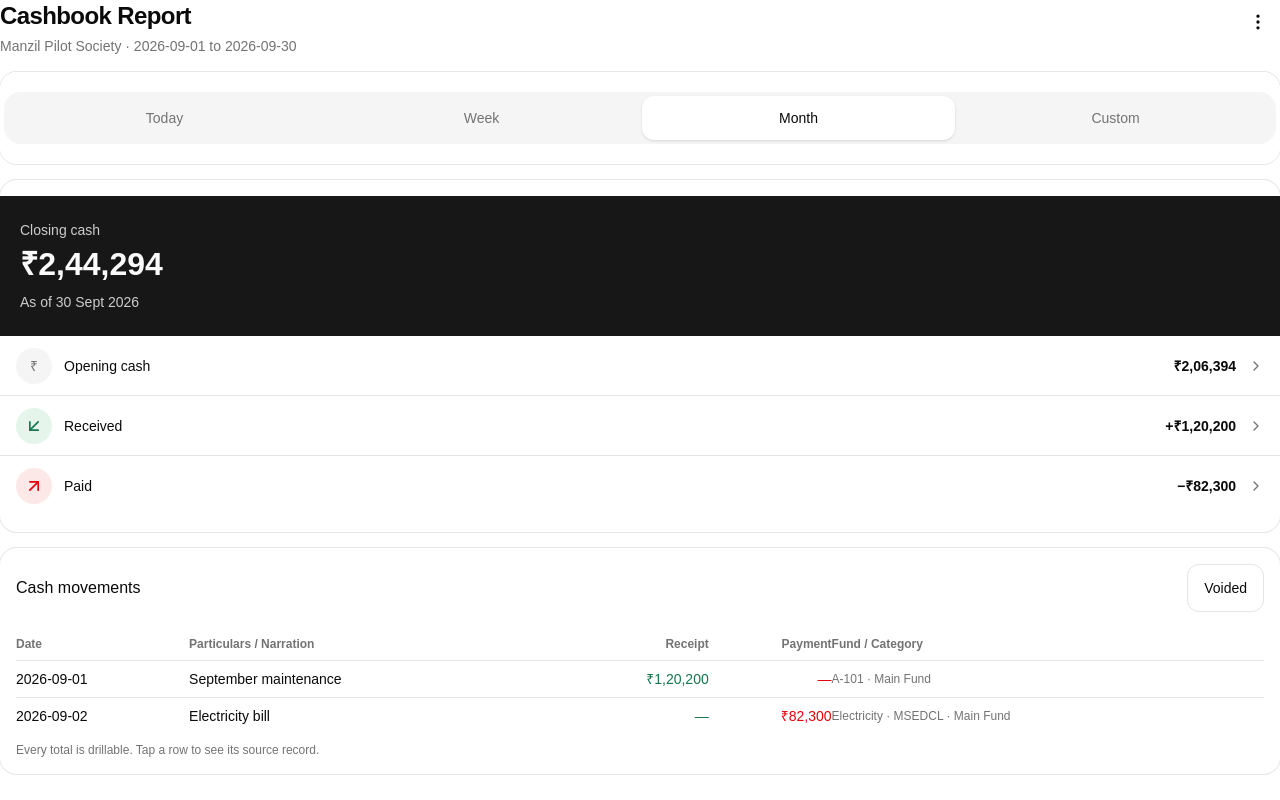
Test: ReportsPage cashbook redesign › drills from received cash into semantic source details
Click the button "Received +₹1,20,200" at (34, 426), box x1=0 y1=396 x2=1279 y2=456
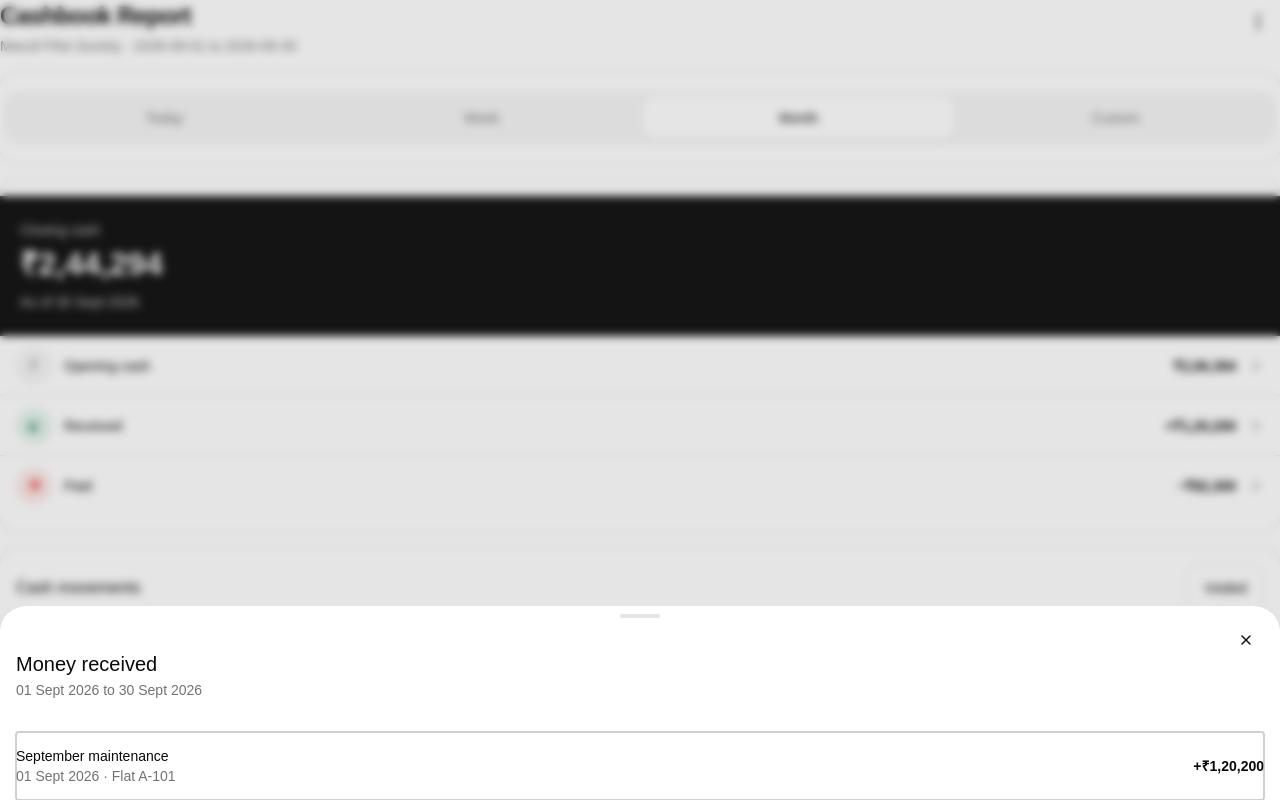
Expected: the heading "Money received" is shown, x1=16 y1=653 x2=157 y2=675
Click the button "September maintenance 01 Sept 2026 · Flat A-101 +₹1,20,200" at (92, 756), box x1=16 y1=732 x2=1264 y2=799
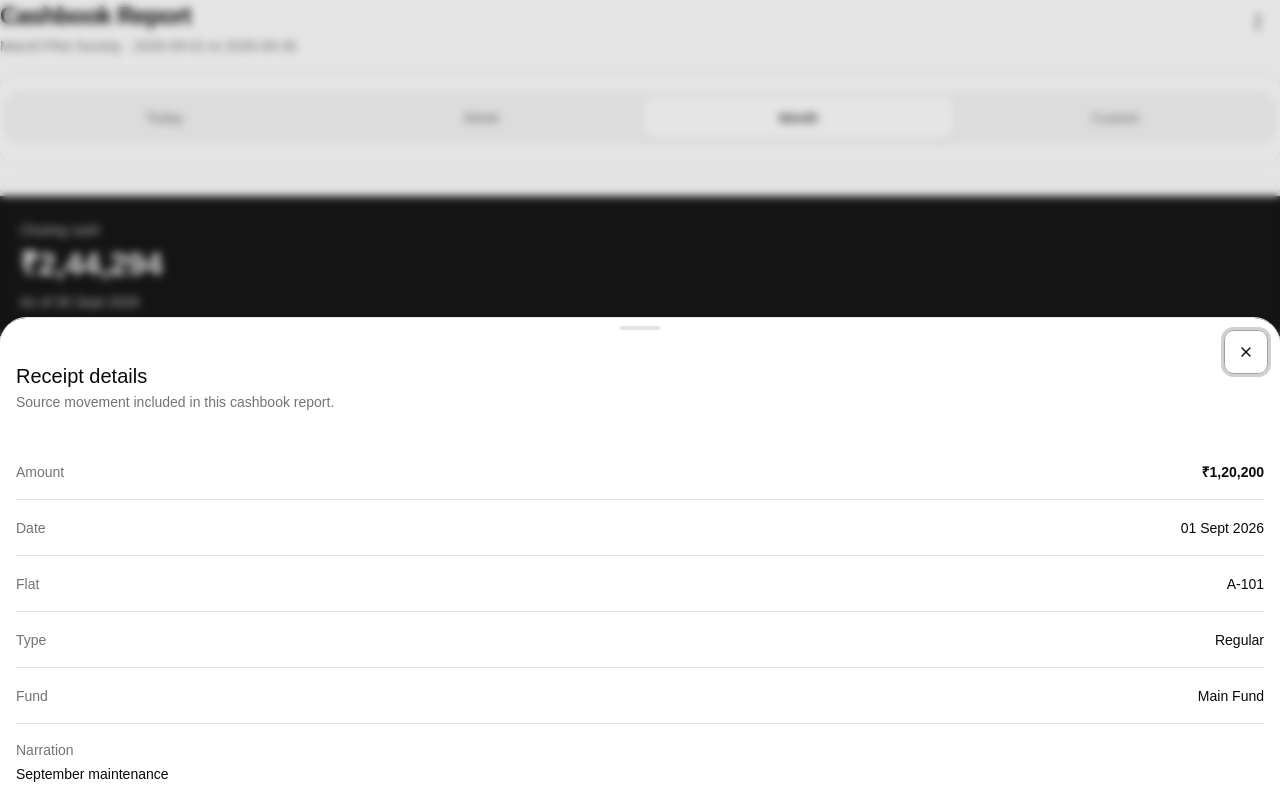
Expected: the text "A-101" is shown, x1=1227 y1=574 x2=1264 y2=594
Expected: the heading "Receipt details" is shown, x1=16 y1=365 x2=147 y2=387
Expected: the text "Main Fund" is shown, x1=1198 y1=686 x2=1264 y2=706
